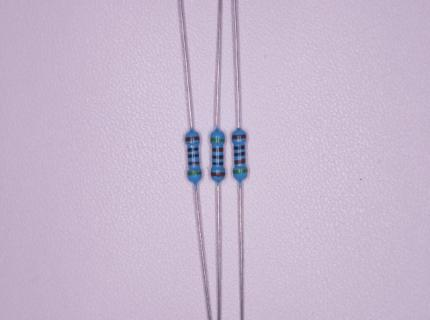Black band: (234, 151, 245, 157), (187, 147, 199, 152), (187, 154, 199, 159), (212, 155, 224, 160), (233, 145, 245, 150), (212, 162, 224, 166)
Brown band: (232, 134, 247, 140), (185, 136, 199, 142), (210, 172, 225, 177), (234, 158, 246, 164), (188, 161, 200, 166), (212, 147, 224, 152)
Green band: (233, 168, 248, 174), (210, 137, 225, 142), (187, 171, 202, 176)
